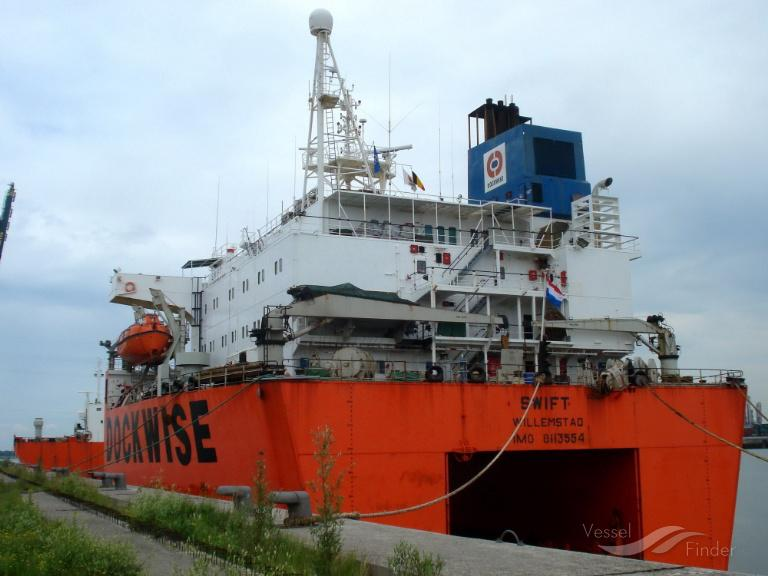OCR: (102, 412, 225, 470), (512, 391, 590, 453)
